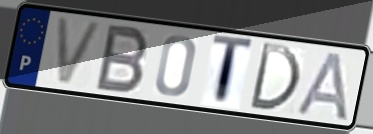0: (152, 33, 199, 99)
A: (294, 49, 350, 124)
B: (92, 22, 152, 96)
D: (246, 40, 303, 114)
T: (209, 32, 256, 110)
V: (54, 14, 107, 89)
